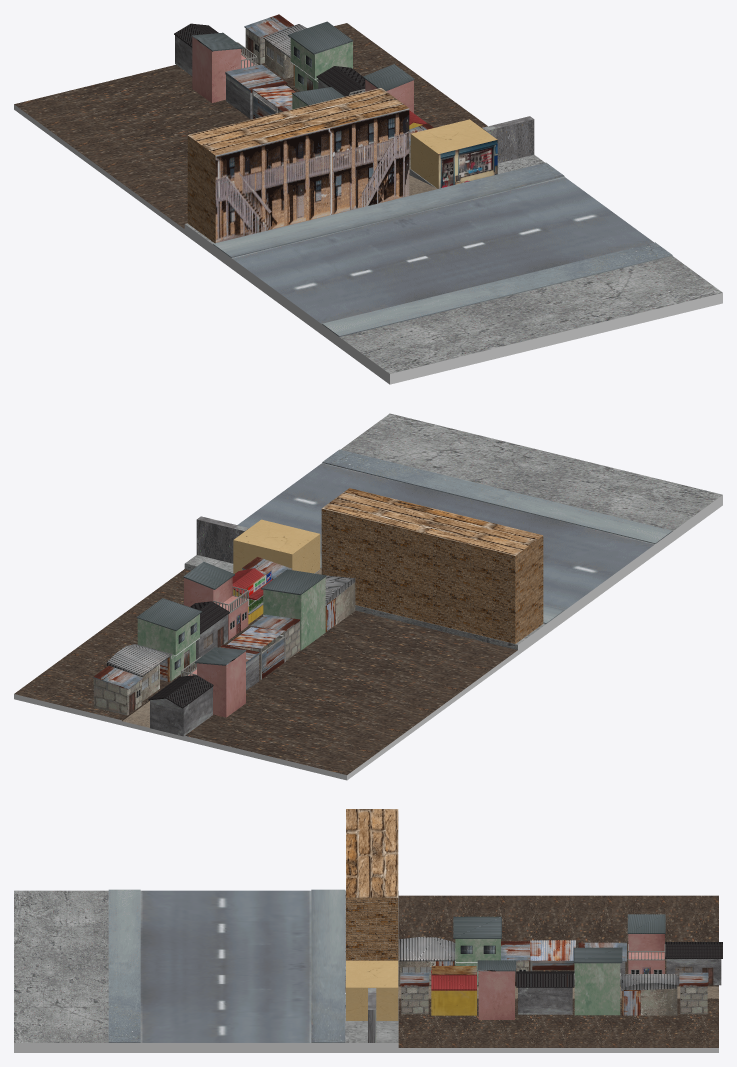
Rendered from WeirdSlums.glb.
3 renders of one model, top to bottom at view 1: azimuth 30°, elevation 25°; view 2: azimuth 150°, elevation 25°; view 3: azimuth 270°, elevation 25°, orthographic. The views are drawn at different scales.
Parts seen in each view (by area): view 1: Ground-col, Apartment Building-col, Laundry shop-col, House3.b-col, House1.a-col, MCHouse-col, Wall-col, House1.b-col, House4.b-col, House2.c-col, House6.a-col, Parking Hut-col (+2 smaller); view 2: Ground-col, Apartment Building-col, Laundry shop-col, House3.a-col, House3.b-col, House6.b-col, House1.a-col, House1.b-col, House2.c-col, House4.b-col, Wall-col, Parking Hut-col (+4 smaller); view 3: Ground-col, Apartment Building-col, House3.b-col, Laundry shop-col, House6.a-col, House4.b-col, Store-col, House3.a-col, House1.b-col, House1.a-col, House6.b-col, House4.a-col (+6 smaller).
Boxes of the visible parts, x1,y1,x2,y2 form: Ground-col: (14,23,722,384); Apartment Building-col: (187,88,409,243); Laundry shop-col: (410,119,497,188); House3.b-col: (288,21,353,91); House1.a-col: (192,32,255,102); MCHouse-col: (225,64,287,118); Wall-col: (482,116,534,163); House1.b-col: (363,64,414,112); House4.b-col: (263,24,306,85); House2.c-col: (244,14,293,64); House6.a-col: (316,66,365,96); Parking Hut-col: (252,85,295,119); Ground-col: (14,413,722,780); Apartment Building-col: (321,488,543,643); Laundry shop-col: (233,519,320,573); House3.a-col: (261,569,326,650); House3.b-col: (136,598,202,680); House6.b-col: (148,675,213,736); House1.a-col: (188,647,246,717); House1.b-col: (183,561,248,640); House2.c-col: (93,666,143,715); House4.b-col: (106,644,172,701); Wall-col: (196,516,248,563); Parking Hut-col: (227,627,285,679); Ground-col: (14,889,718,1052); Apartment Building-col: (346,809,398,960); House3.b-col: (573,947,622,1015); Laundry shop-col: (346,960,398,1020); House6.a-col: (516,971,574,1014); House4.b-col: (621,974,677,1015); Store-col: (431,966,476,1015); House3.a-col: (453,916,501,985); House1.b-col: (477,960,515,1019); House1.a-col: (627,914,665,973); House6.b-col: (665,942,722,985); House4.a-col: (399,937,455,985).
Size of the model in its own units: 47.41 by 13.45 by 93.15.
14 materials, 12 textured.
